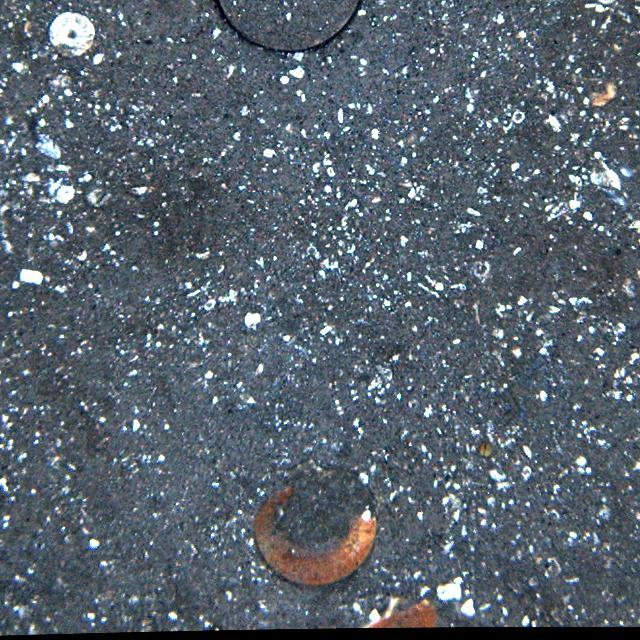scallop: (258, 452, 378, 590)
